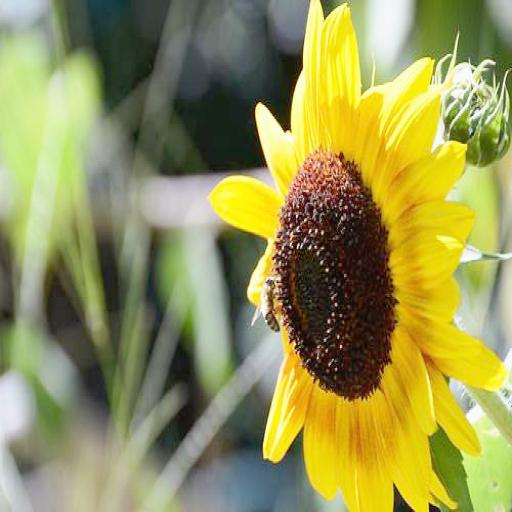sunflower: (209, 1, 505, 512)
